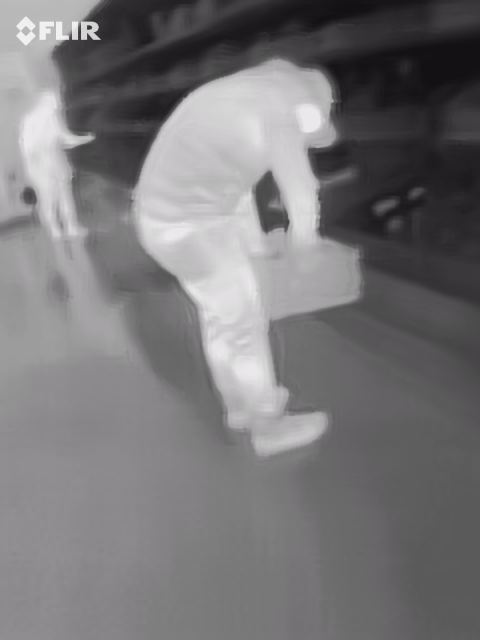head: (282, 52, 339, 146)
